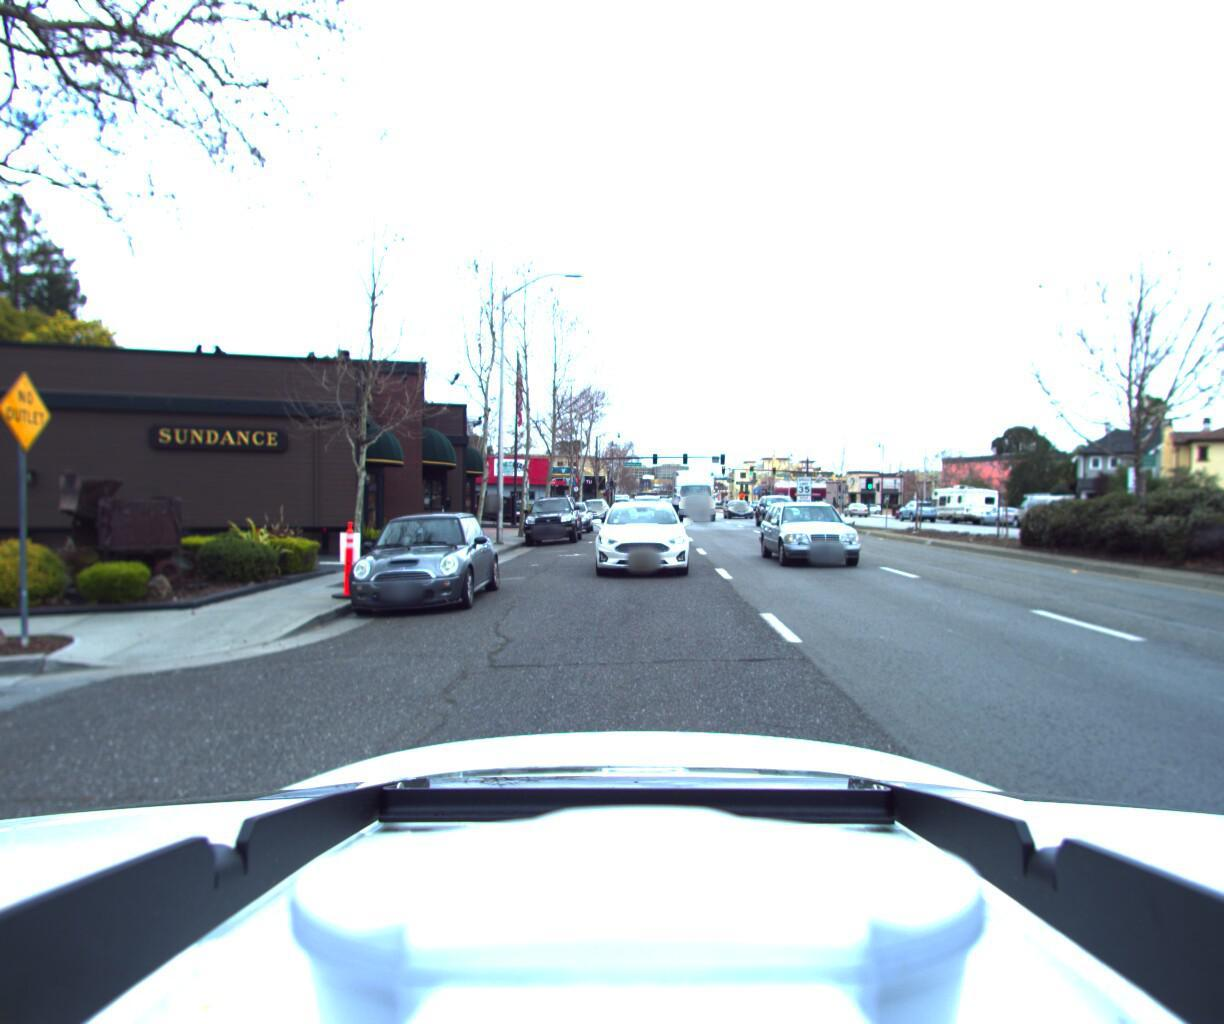car: (330, 514, 496, 633), (748, 503, 874, 586), (579, 502, 680, 590), (517, 501, 575, 553), (997, 500, 1073, 539), (753, 496, 808, 536), (544, 508, 588, 542), (626, 503, 663, 542), (964, 513, 1021, 536), (891, 508, 933, 530), (570, 505, 605, 531), (722, 503, 755, 529), (838, 509, 867, 525)
other_vehicle: (916, 490, 994, 533)
truck: (663, 477, 720, 535)
